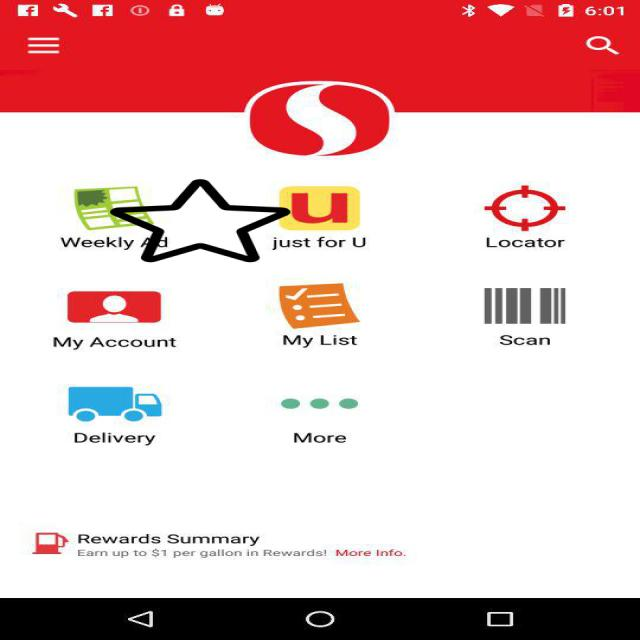forced continuity: (110, 177, 290, 264)
